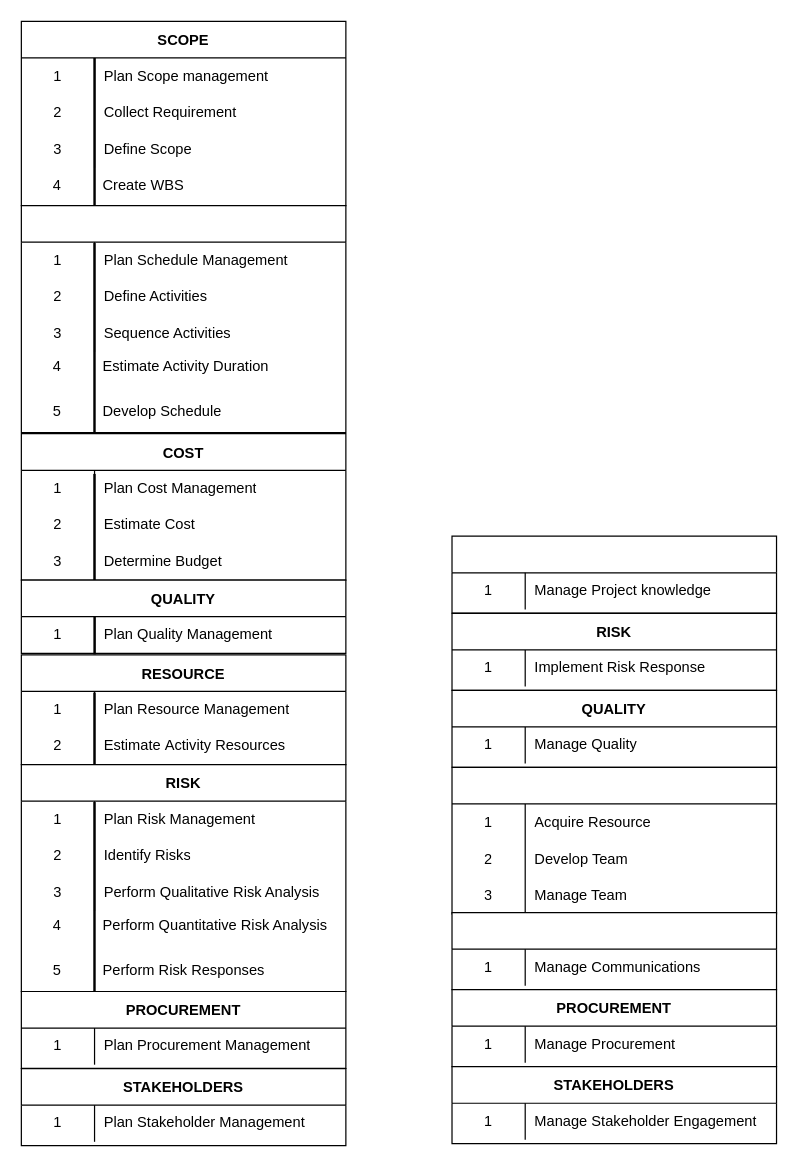
This 798x1168 diagram has some shape labels left out. Here are the shapes that lost their labels. From the top down, the box of each, then its label:
(20, 204, 346, 432): TIME
(451, 535, 777, 613): INTEGRATION
(451, 766, 777, 914): HUMAN RESOUURCE
(451, 911, 777, 990): COOMUNICATIONS
